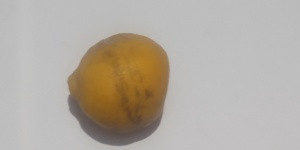BAD: (65, 31, 168, 135)
